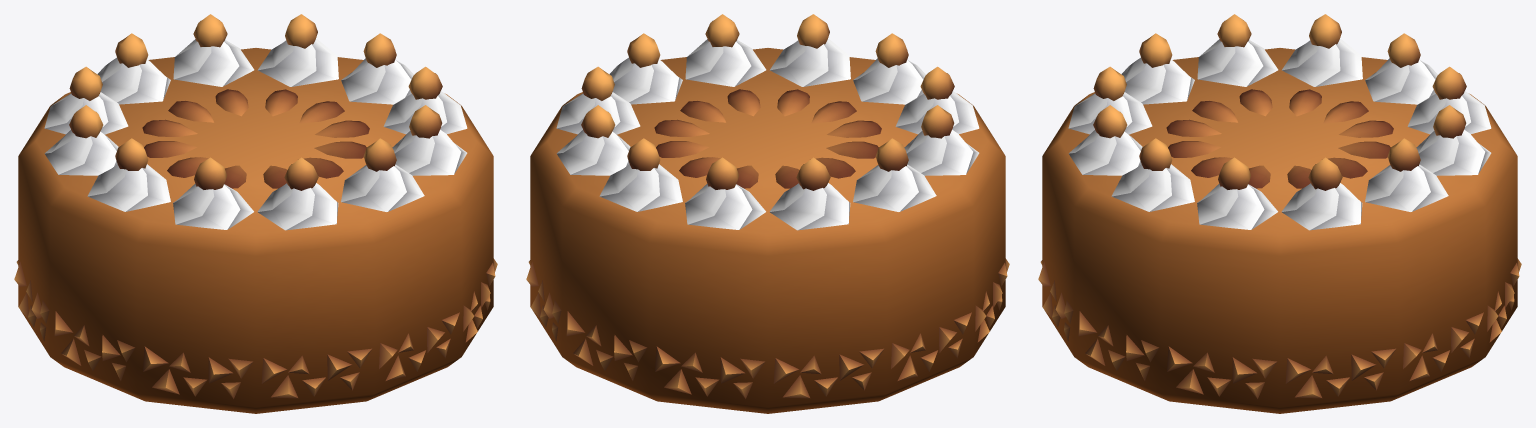
The model's file is m_NutCake01.fbx.
3 renders of one model, left to right at view 1: azimuth 30°, elevation 25°; view 2: azimuth 150°, elevation 25°; view 3: azimuth 270°, elevation 25°, orthographic.
Visible parts, largest first — view 1: m_NutCake01; view 2: m_NutCake01; view 3: m_NutCake01.
Part boxes in pixels (box(x1,y1,x2,y2)): m_NutCake01: box(14, 14, 497, 413); m_NutCake01: box(526, 14, 1009, 413); m_NutCake01: box(1038, 14, 1521, 413).
Bounding box in the file's own units: 23.93 × 12.82 × 23.93.
